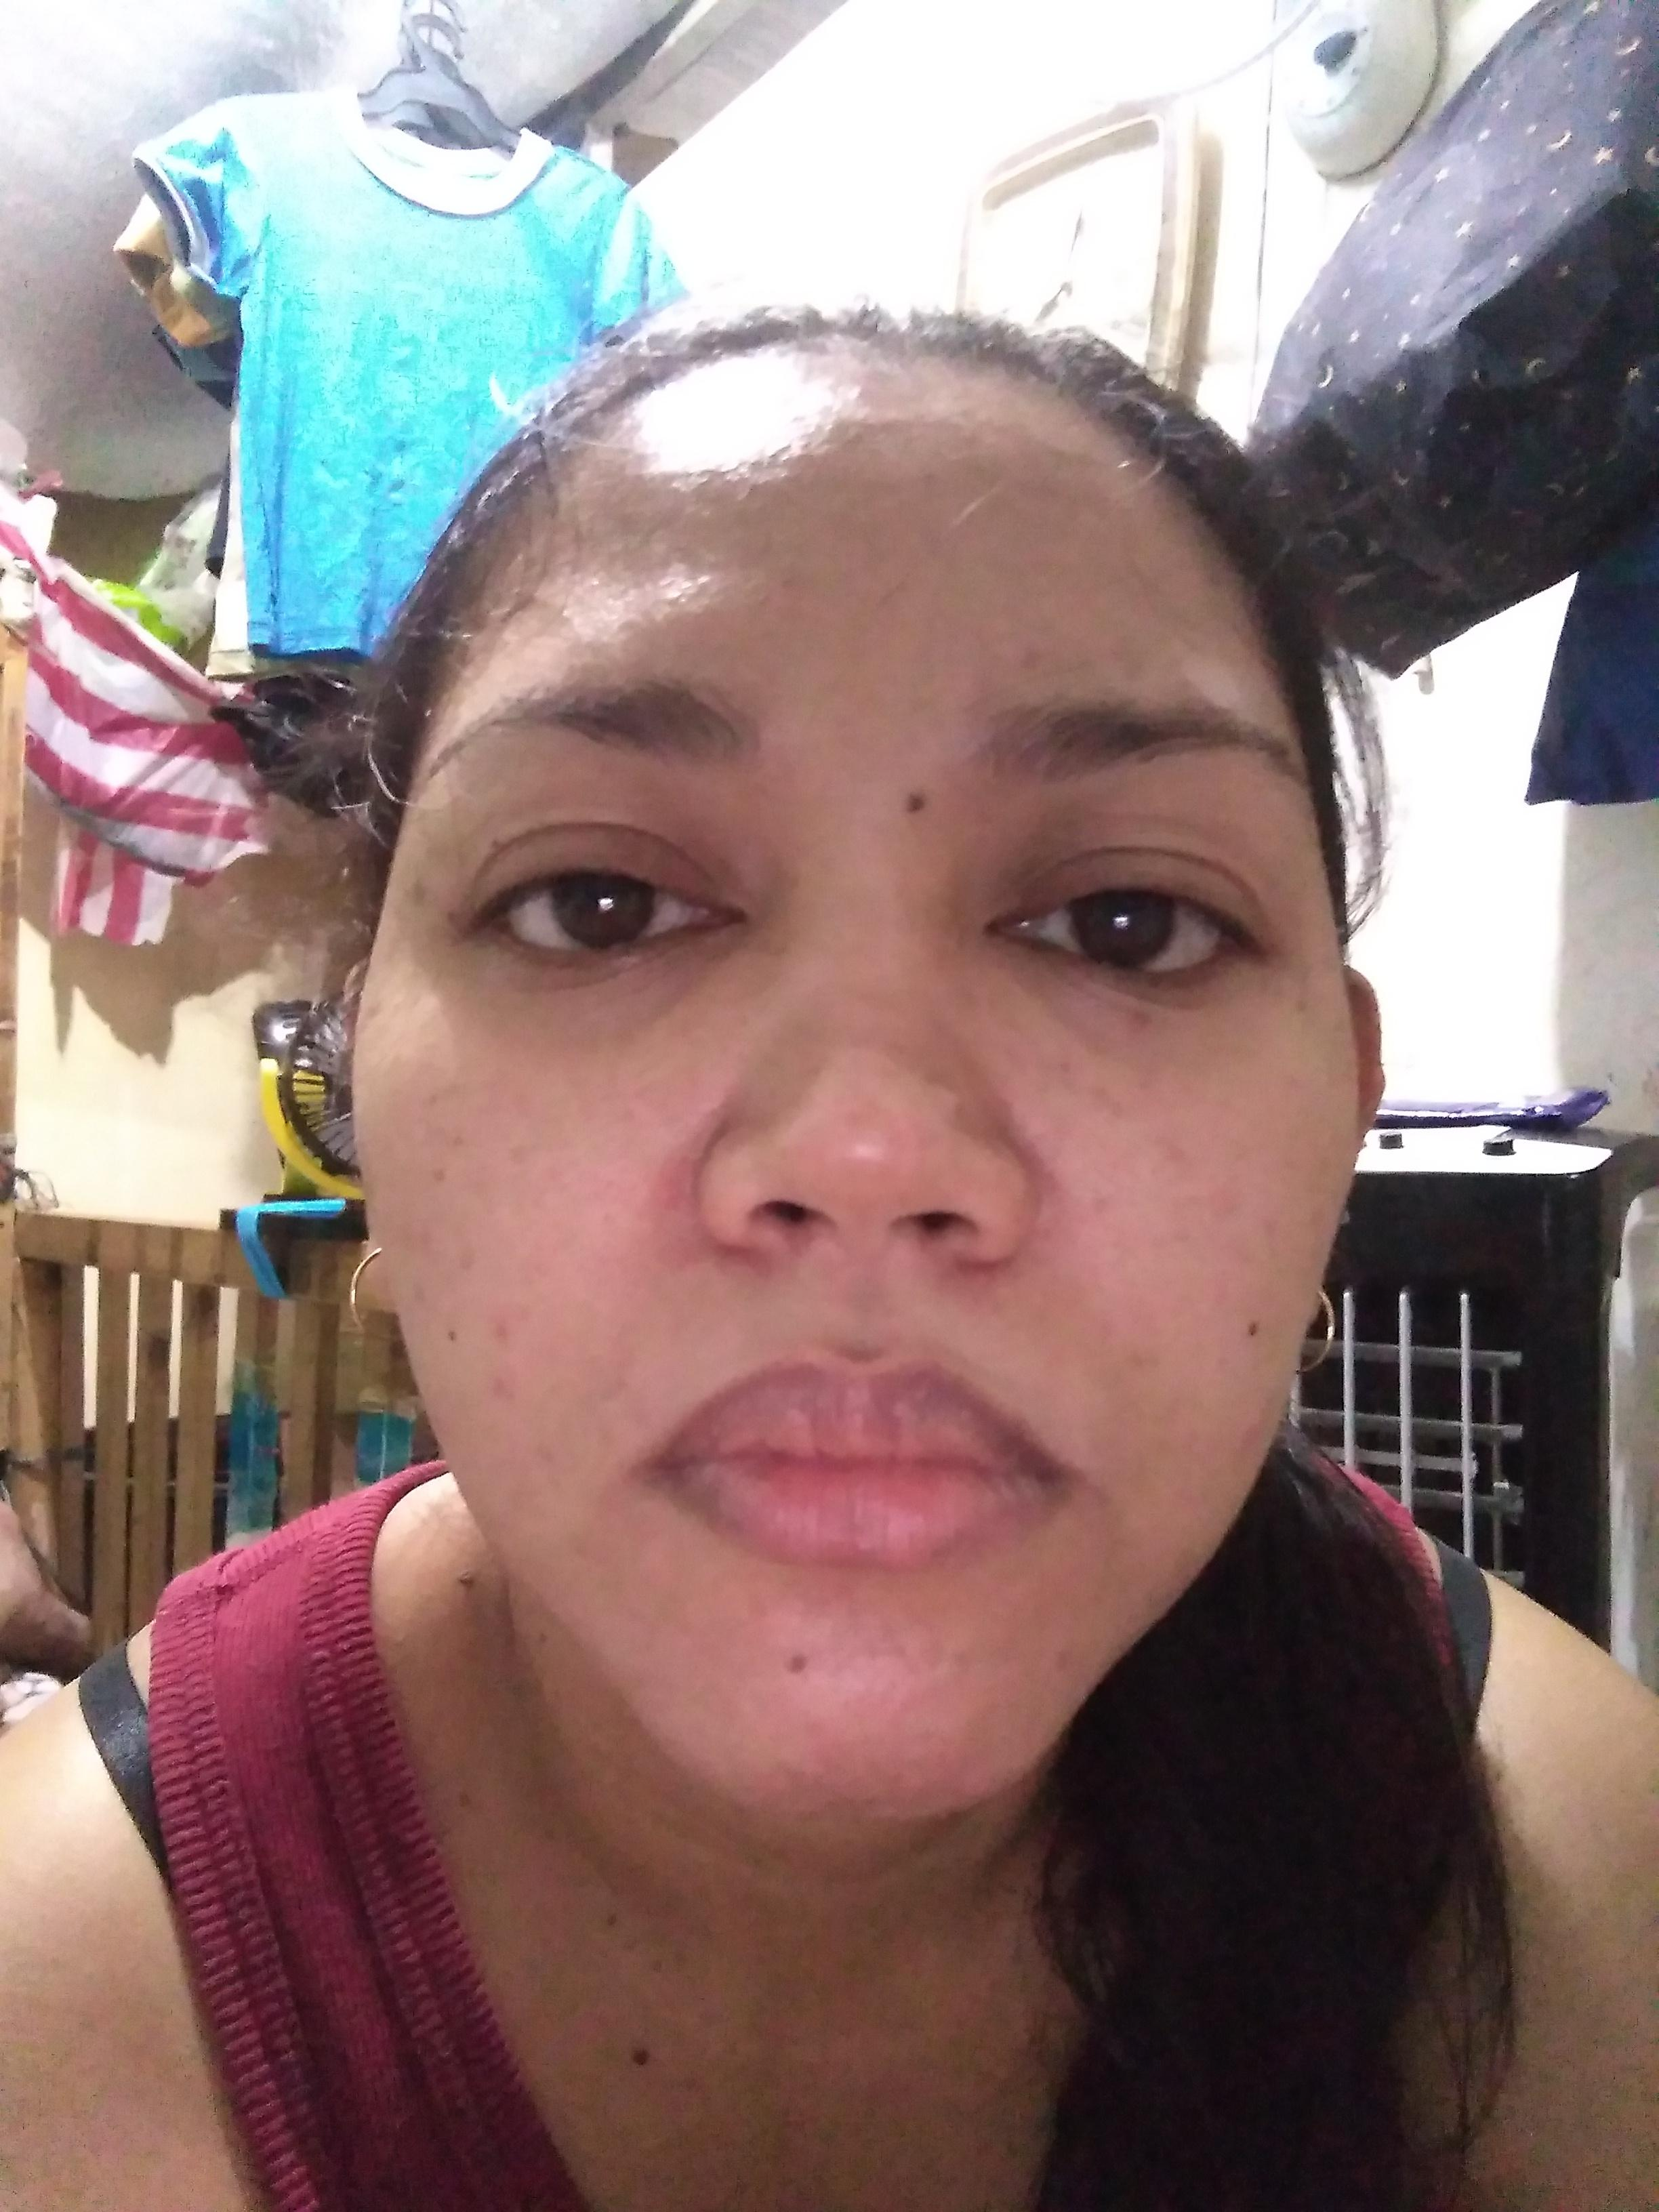Acne: (650, 1141, 708, 1230), (997, 641, 1054, 679), (1232, 1399, 1269, 1453), (477, 1374, 523, 1406), (1124, 1005, 1161, 1043), (1148, 1136, 1187, 1172), (483, 1318, 518, 1352)
Eyebags: (446, 909, 767, 1054), (1004, 913, 1281, 1062)
